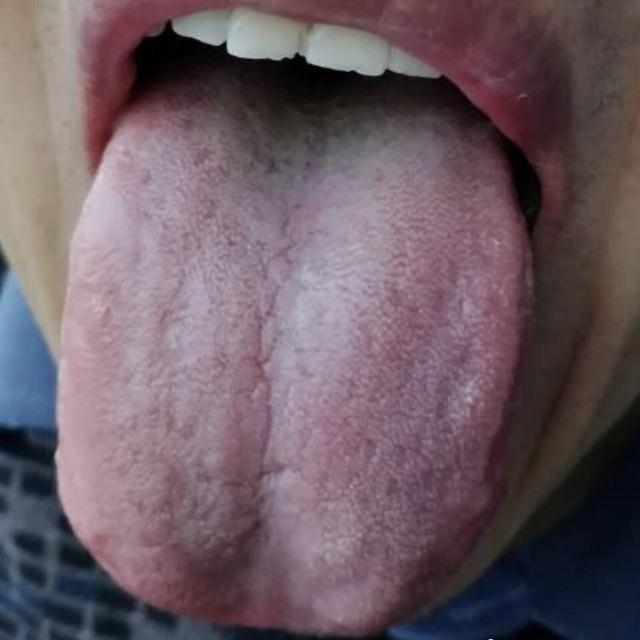baitaishe: (54, 72, 534, 640)
